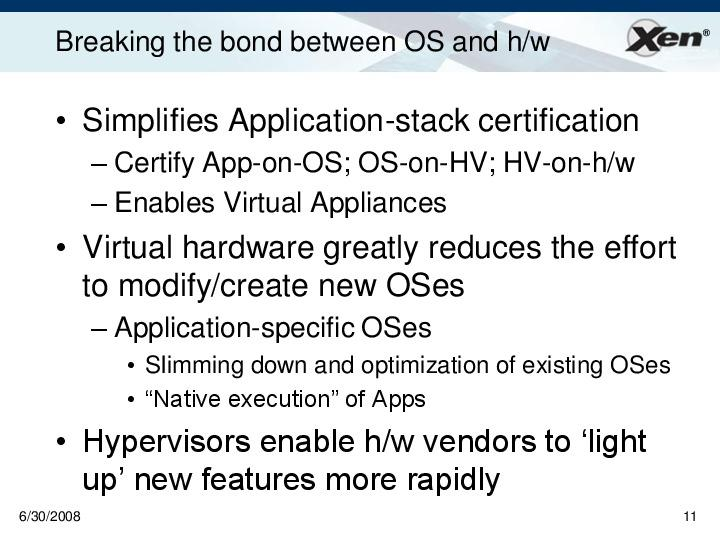paragraph: (48, 93, 698, 501)
title: (50, 20, 562, 71)
